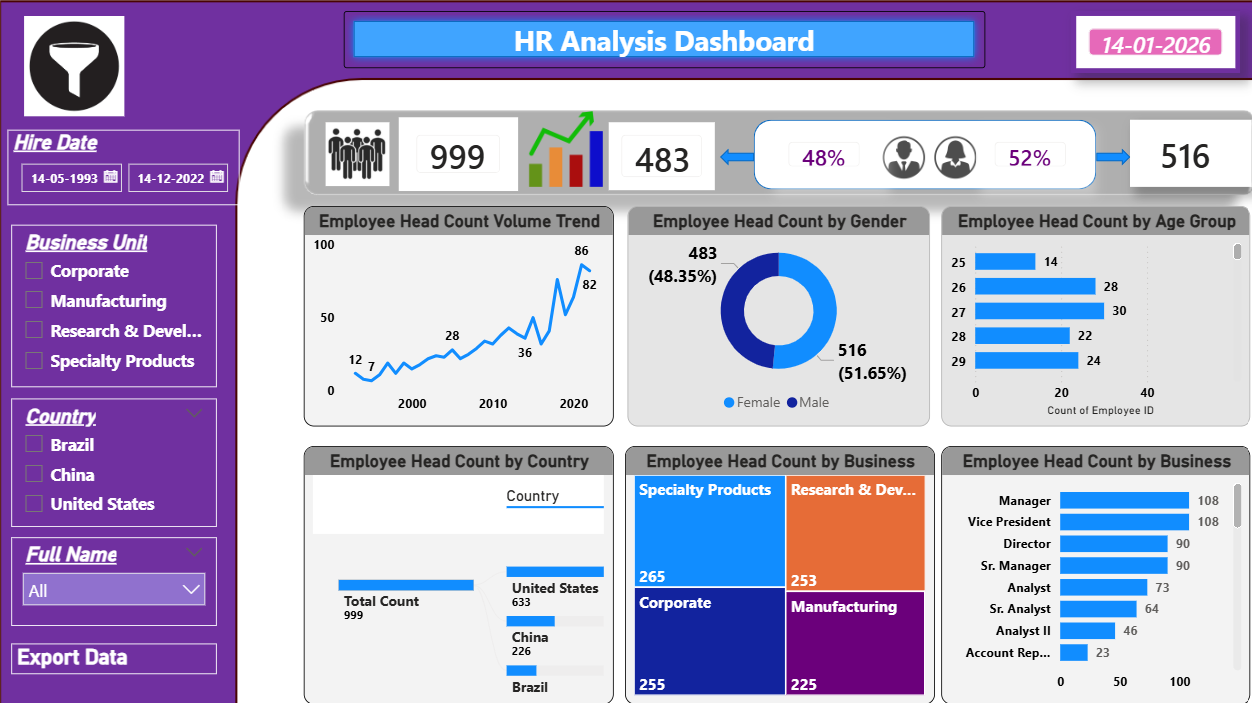

Layout of this report page (visuals, bound fields, positions):
{"tool":"powerbi","page":{"name":"HR Analysis","canvas":[1280,720],"ordinal":1},"visuals":[{"type":"cardVisual","fields":{"Data":["Employee Data.Total_Count"]},"box":[418.1,132,115.5,71.5],"z":0},{"type":"image","box":[308.8,135.8,140,61.8],"z":1000},{"type":"lineChart","title":"Employee Head Count Volume Trend","fields":{"Y":["CountNonNull(Employee Data.Employee ID)"],"Category":["Employee Data.Hire Date.Variation.Date Hierarchy.Year"]},"box":[326.6,216.8,299.1,212.7],"z":2000},{"type":"donutChart","title":"Employee Head Count by Gender","fields":{"Category":["Employee Data.Gender"],"Y":["CountNonNull(Employee Data.Employee ID)"]},"box":[639.5,216.8,292.3,212.7],"z":3000},{"type":"clusteredBarChart","title":"Employee Head Count by Age Group","fields":{"Category":["Employee Data.Age"],"Y":["CountNonNull(Employee Data.Employee ID)"]},"box":[942.7,216.8,299.1,212.7],"z":4000},{"type":"decompositionTreeVisual","title":"Employee Head Count by Country","fields":{"Analyze":["CountNonNull(Employee Data.Country)"],"ExplainBy":["Employee Data.Country"]},"box":[326.6,448.7,299.1,249.7],"z":5000},{"type":"treemap","title":"Employee Head Count by Business","fields":{"Group":["Employee Data.Business Unit"],"Values":["CountNonNull(Employee Data.Employee ID)"]},"box":[636.7,448.7,299.1,249.7],"z":6000},{"type":"clusteredBarChart","title":"Employee Head Count by Business","fields":{"Category":["Employee Data.Job Title"],"Y":["CountNonNull(Employee Data.Employee ID)"]},"box":[942.7,448.7,299.1,249.7],"z":7000},{"type":"shape","box":[761.6,134.5,330.7,67.2],"z":8000},{"type":"image","box":[878.2,137.2,105.7,65.9],"z":9000},{"type":"cardVisual","fields":{"Data":["Employee Data.Total_Male_Count"]},"box":[616.1,131.7,112.5,75.5],"z":10000},{"type":"cardVisual","fields":{"Data":["Employee Data.Total_Female_Count","select"]},"box":[1124.9,133.4,118.3,64.6],"z":11000},{"type":"cardVisual","fields":{"Data":["Employee Data.Male_Percentage"]},"box":[776.7,137.2,105.7,60.4],"z":12000},{"type":"cardVisual","fields":{"Data":["Employee Data.Female_Percentage"]},"box":[975.6,137.2,105.7,60.4],"z":13000},{"type":"shape","box":[365,28.8,618.9,54.9],"z":14000},{"type":"image","box":[449.7,110,259.9,104.5],"z":15000},{"type":"shape","box":[1092.3,161.9,32.9,16.5],"z":16000},{"type":"shape","box":[728.6,161.9,32.9,16.5],"z":17000},{"type":"slicer","fields":{"Values":["Employee Data.Business Unit"]},"box":[44.2,235.2,198.1,156.8],"z":18000},{"type":"slicer","fields":{"Values":["Employee Data.Country"]},"box":[44.2,403.4,198.1,124],"z":19000},{"type":"slicer","fields":{"Values":["Employee Data.Full Name"]},"box":[44.2,537.4,198.1,85.5],"z":20000},{"type":"slicer","title":"Hire Date","fields":{"Values":["Employee Data.Hire Date"]},"box":[41.3,144,223.8,72.7],"z":21000},{"type":"cardVisual","fields":{"Data":["Min(Query1.Date)"]},"box":[1067.6,28.8,163.3,60.4],"z":22000},{"type":"image","box":[41.3,34.2,128.3,96.9],"z":23000},{"type":"tableEx","title":"Export Data","fields":{"Values":["Employee Data.Full Name","Employee Data.Gender","Employee Data.Female_Percentage"]},"box":[44.2,640,198.1,29.9],"z":24000}]}

Visuals, with their boxes in screenshot pixels (x1, y1, x2, y2), scaled from the page's 1280x720 canvas onto the 1252x703 screenshot:
cardVisual - Employee Data.Total_Count: select_region(409, 129, 522, 199)
image: select_region(302, 133, 439, 193)
"Employee Head Count Volume Trend" lineChart: select_region(319, 212, 612, 419)
"Employee Head Count by Gender" donutChart: select_region(626, 212, 911, 419)
"Employee Head Count by Age Group" clusteredBarChart: select_region(922, 212, 1215, 419)
"Employee Head Count by Country" decompositionTreeVisual: select_region(319, 438, 612, 682)
"Employee Head Count by Business" treemap: select_region(623, 438, 915, 682)
"Employee Head Count by Business" clusteredBarChart: select_region(922, 438, 1215, 682)
shape: select_region(745, 131, 1068, 197)
image: select_region(859, 134, 962, 198)
cardVisual - Employee Data.Total_Male_Count: select_region(603, 129, 713, 202)
cardVisual - Employee Data.Total_Female_Count x select: select_region(1100, 130, 1216, 193)
cardVisual - Employee Data.Male_Percentage: select_region(760, 134, 863, 193)
cardVisual - Employee Data.Female_Percentage: select_region(954, 134, 1058, 193)
shape: select_region(357, 28, 962, 82)
image: select_region(440, 107, 694, 209)
shape: select_region(1068, 158, 1101, 174)
shape: select_region(713, 158, 745, 174)
slicer - Employee Data.Business Unit: select_region(43, 230, 237, 383)
slicer - Employee Data.Country: select_region(43, 394, 237, 515)
slicer - Employee Data.Full Name: select_region(43, 525, 237, 608)
"Hire Date" slicer: select_region(40, 141, 259, 212)
cardVisual - Min(Query1.Date): select_region(1044, 28, 1204, 87)
image: select_region(40, 33, 166, 128)
"Export Data" tableEx: select_region(43, 625, 237, 654)
